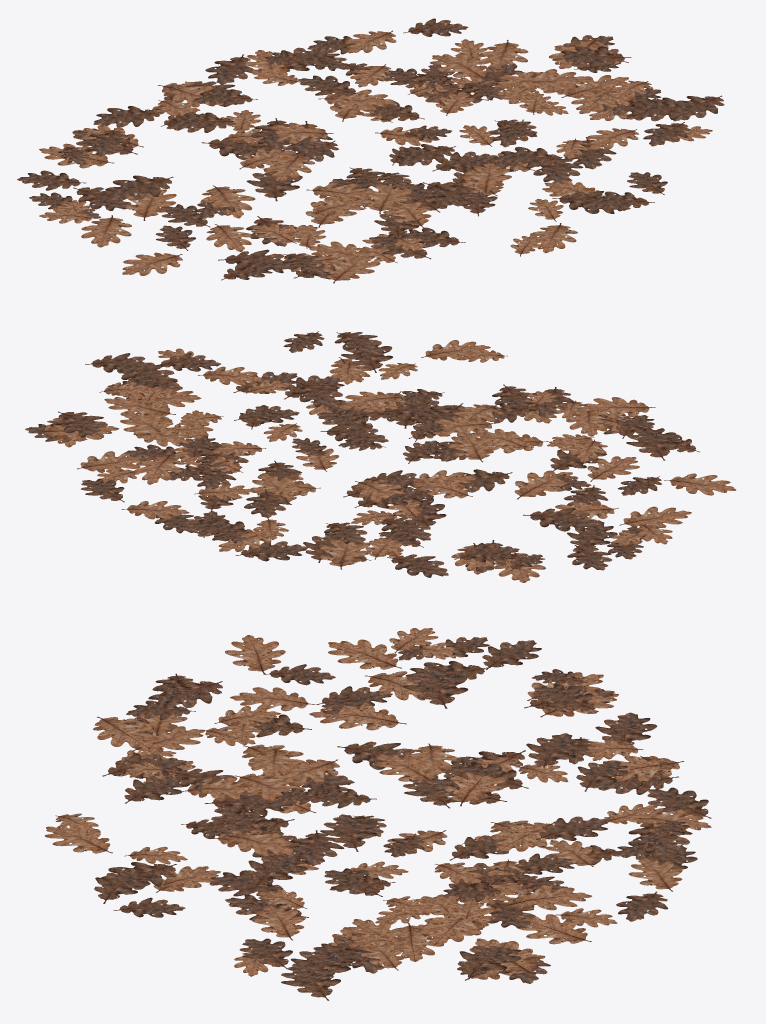
Rendered from Oak_LeafLitter_Patch_01_LOD0.fbx.
3 renders of one model, top to bottom at view 1: azimuth 30°, elevation 25°; view 2: azimuth 150°, elevation 25°; view 3: azimuth 270°, elevation 25°, orthographic. The views are drawn at different scales.
Parts seen in each view (by area): view 1: Oak_LeafLitter_Patch_01_LOD0_Mesh; view 2: Oak_LeafLitter_Patch_01_LOD0_Mesh; view 3: Oak_LeafLitter_Patch_01_LOD0_Mesh.
Boxes of the visible parts, x1,y1,x2,y2 form: Oak_LeafLitter_Patch_01_LOD0_Mesh: (17, 18, 724, 283); Oak_LeafLitter_Patch_01_LOD0_Mesh: (25, 331, 735, 582); Oak_LeafLitter_Patch_01_LOD0_Mesh: (45, 628, 711, 1000).
Bounding box in the file's own units: 146 × 2.01 × 118.
Materials: 1 (1 with a texture image).
